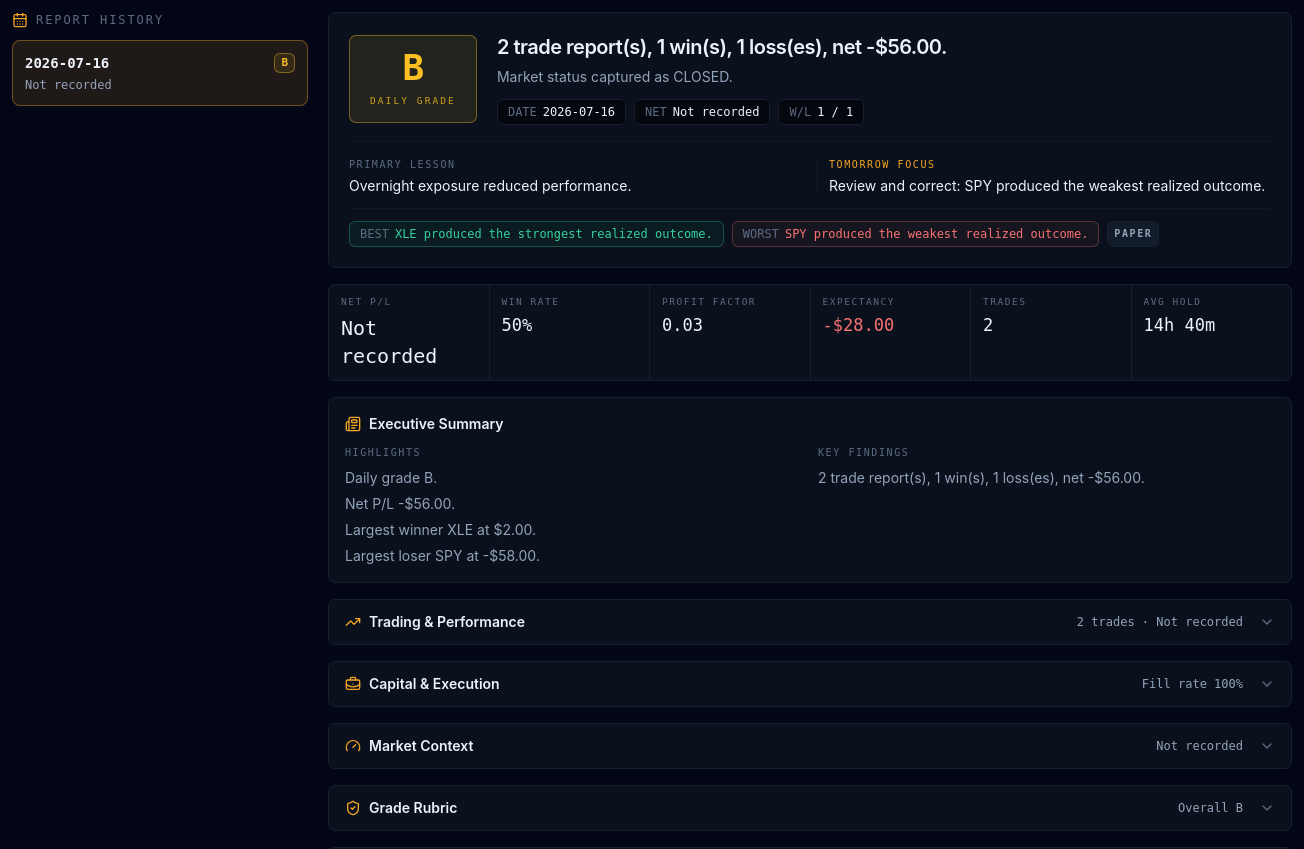
Test: DailyReportsPage › renders honest missing-data states without fake market or capital values
Click the text "Market Context" at (421, 746), box [369,736,474,756]
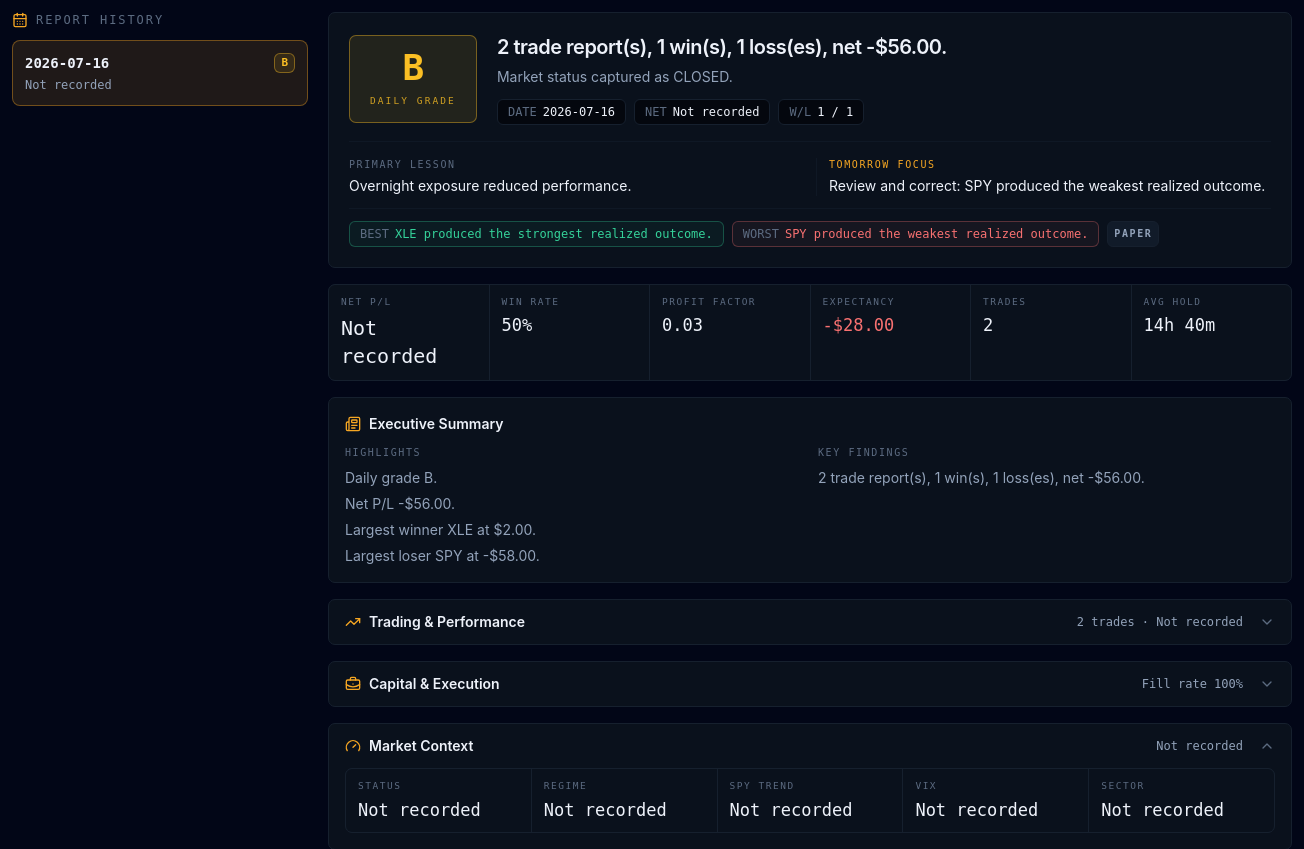
Click the text "Capital & Execution" at (434, 684), box [369,674,500,694]
(page scrolled)
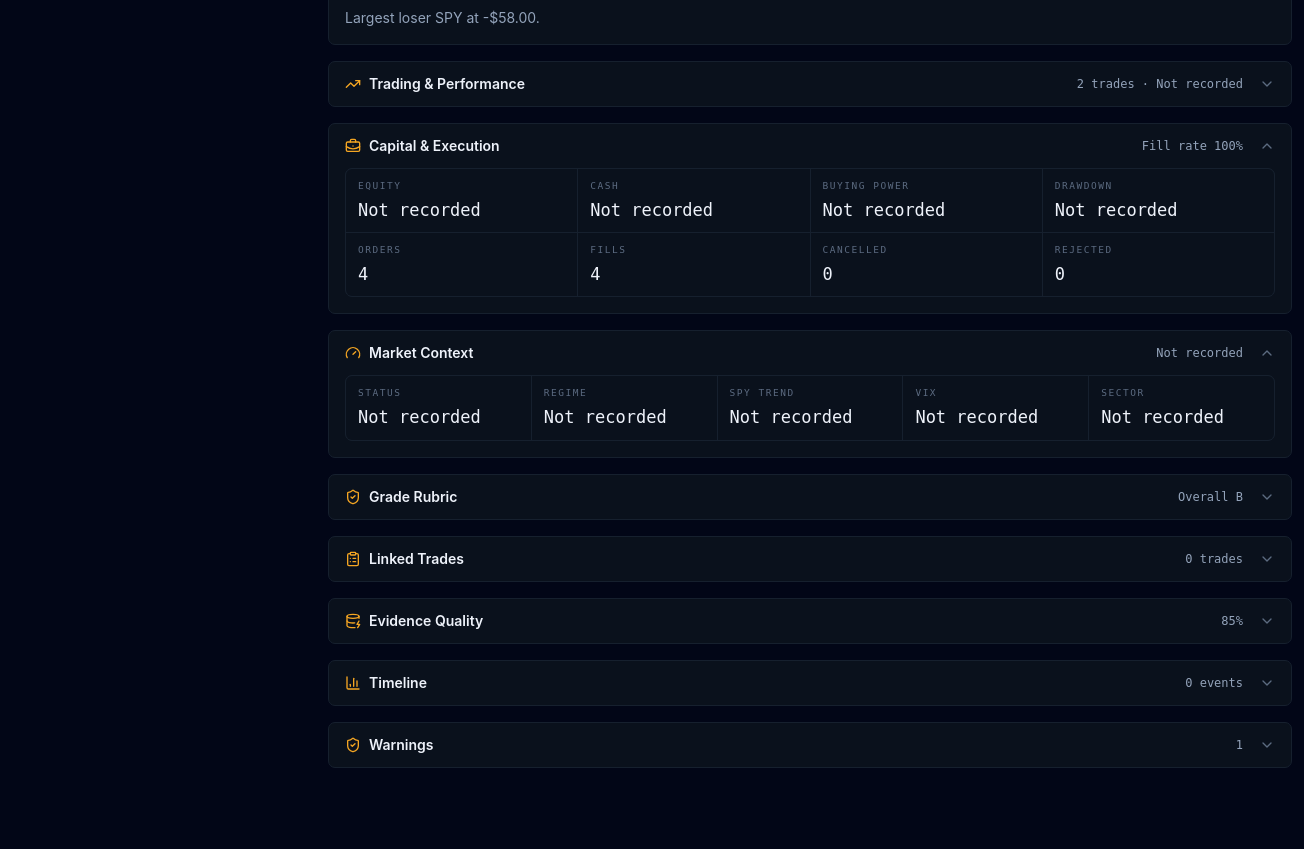
Click the text "Linked Trades" at (416, 559), box [369,549,464,569]
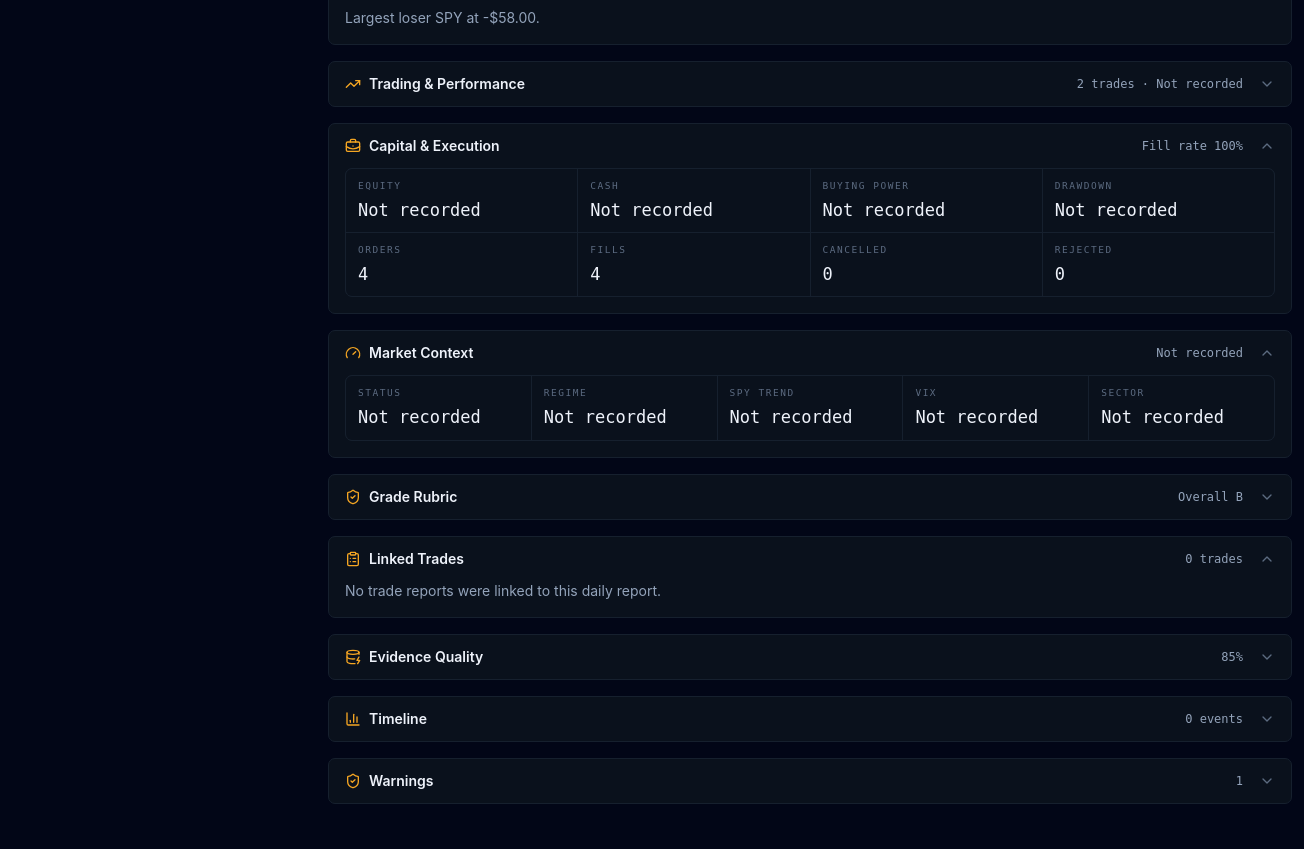
Click the text "Timeline" at (398, 719), box [369,709,427,729]
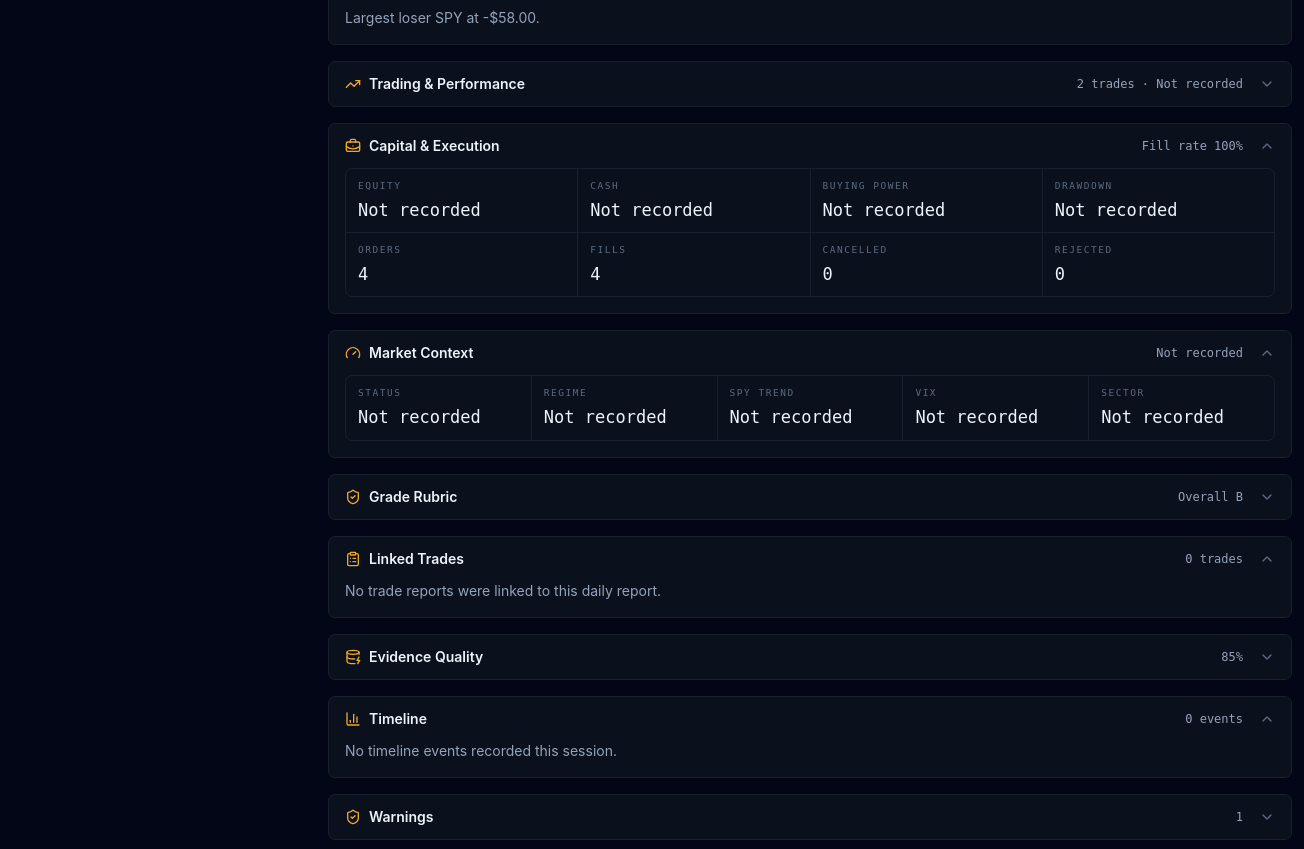
Expected: the text "No trade reports were linked to this daily report." is shown, [345,582,661,599]
Expected: the text "No timeline events recorded this session." is shown, [345,742,617,759]
